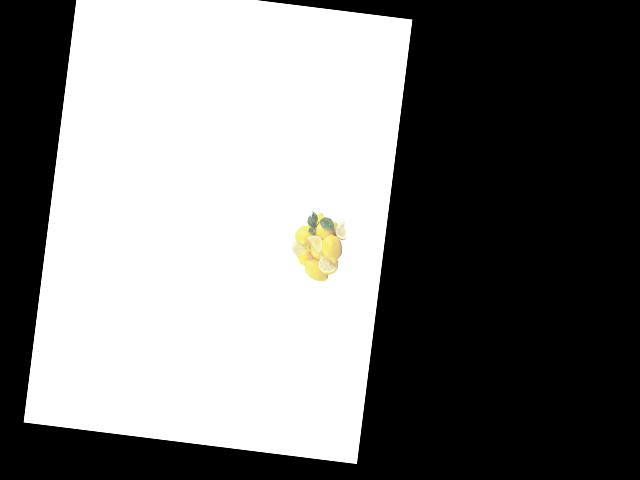lemon: (314, 218, 338, 243)
